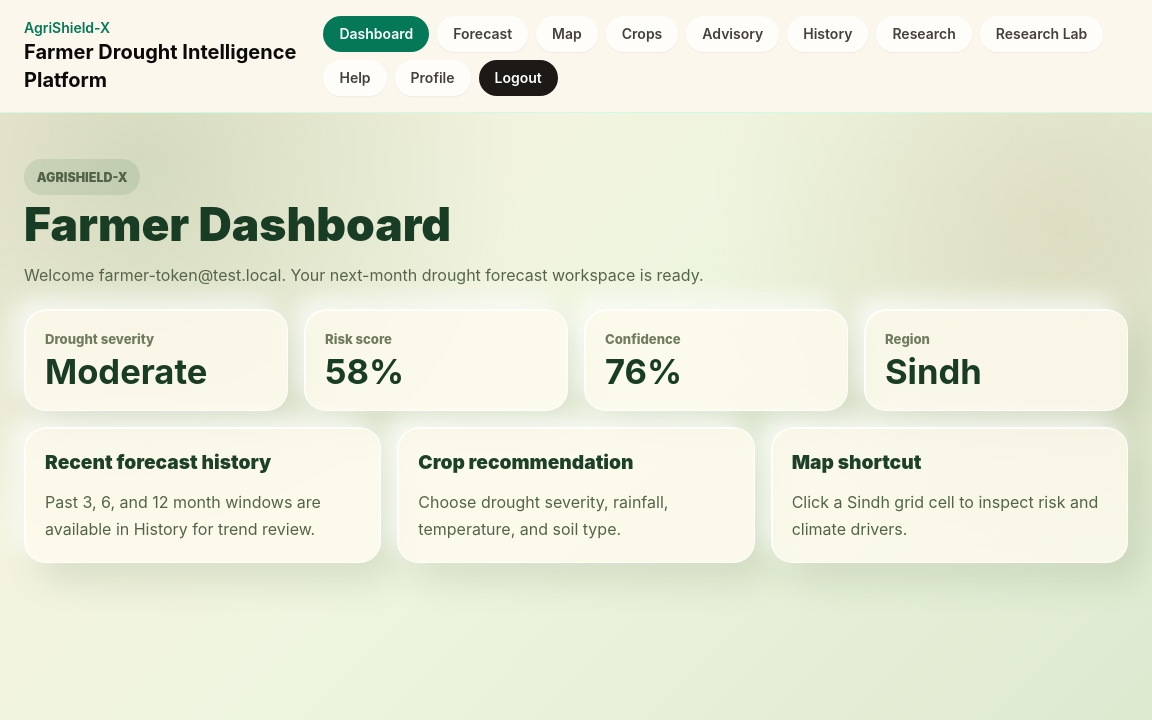
Scenario: logout clears session and returns to farmer login
expect the heading "Farmer Dashboard" is shown: met, box [24, 196, 451, 252]
Click the button "Logout" at (518, 78), box [478, 60, 558, 96]
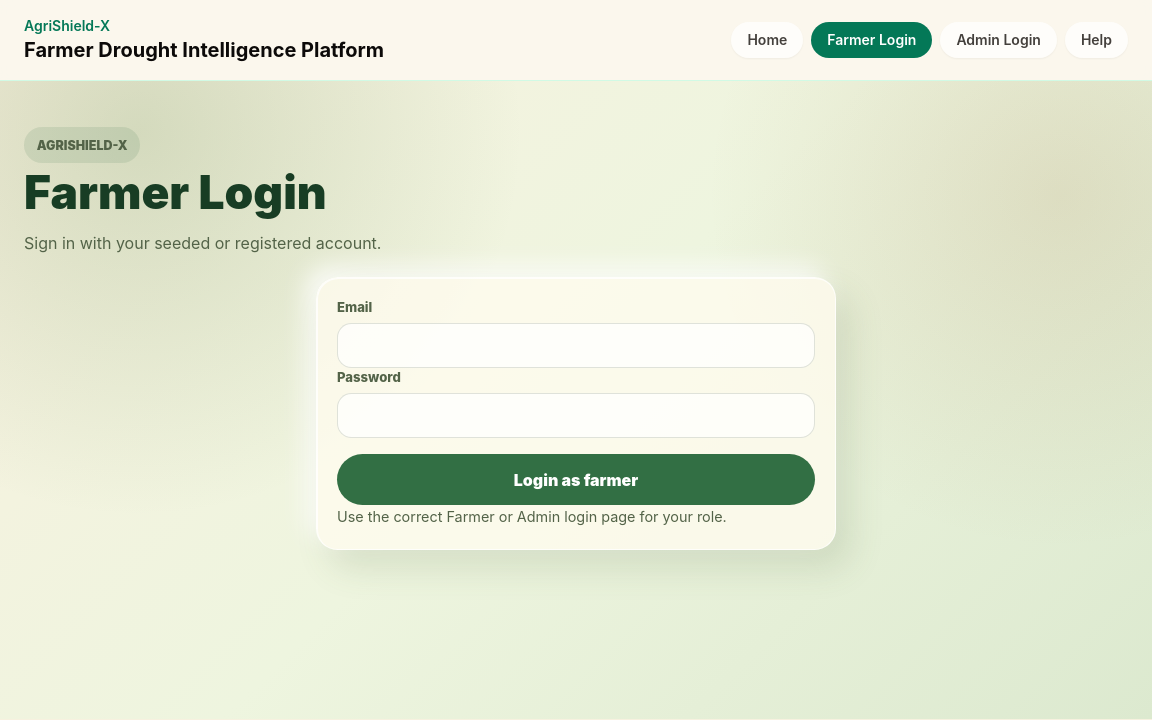
expect the heading "Farmer Login" is shown: met, box [24, 164, 327, 220]
